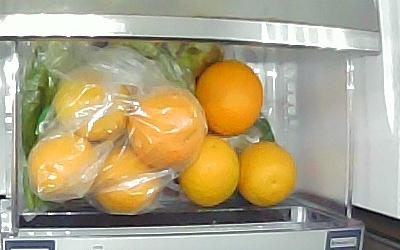orange: (194, 58, 263, 137), (177, 133, 240, 206), (236, 139, 296, 206)
orange_vinyl: (125, 87, 203, 167), (54, 67, 131, 141), (95, 141, 164, 210), (27, 131, 95, 198)
